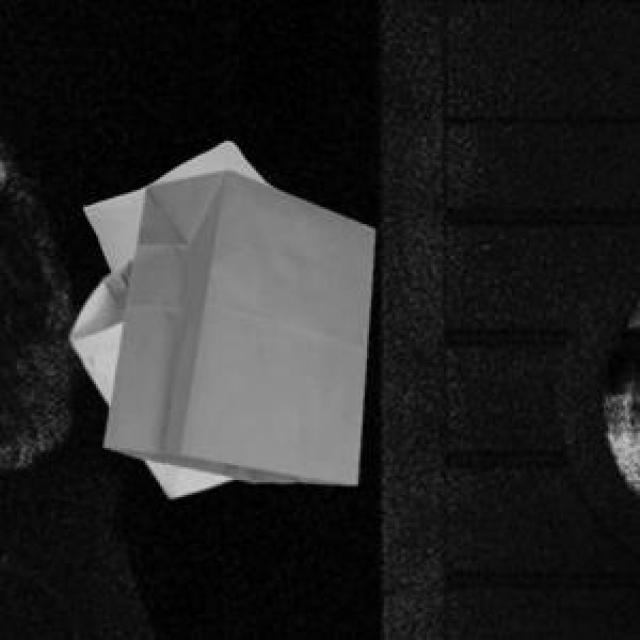paper: (100, 166, 371, 480), (66, 254, 228, 493)
